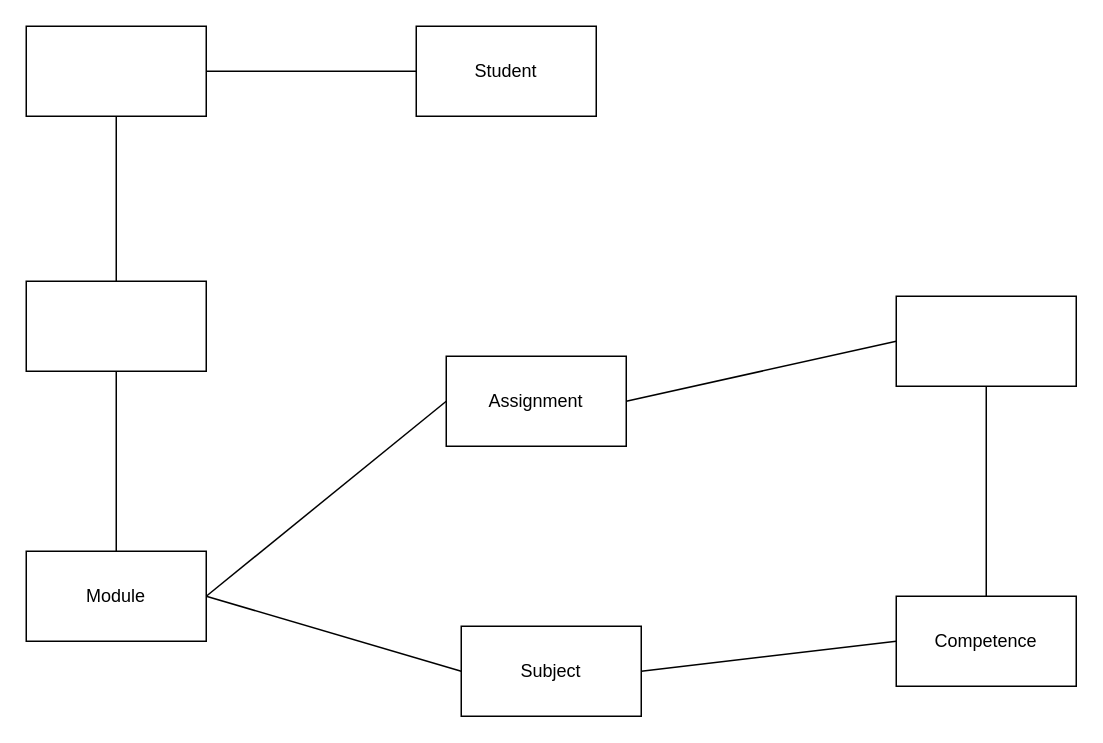
The diagram is 1103 pixels wide and 743 high, and some of its shapes have lost their labels. The shapes that lost their labels are listed below. From the top down, each one's centre as x and y in pixels, then its label:
the point at 115,70: Enrollment
the point at 115,325: Course
the point at 985,340: Teacher
